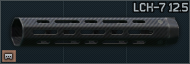AR-10 Lancer LCH-7 12.5 inch M-LOK handguard: (0, 0, 190, 64)
